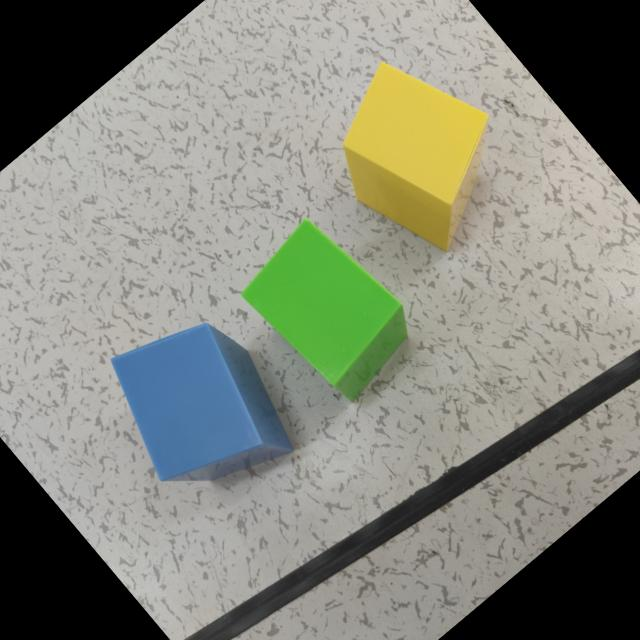blue: (113, 322, 295, 482)
green: (240, 219, 409, 401)
yellow: (344, 61, 491, 251)
